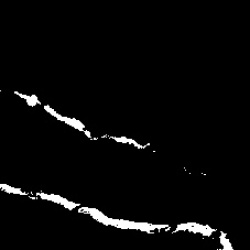crack: (2, 183, 235, 248), (12, 92, 154, 149)
